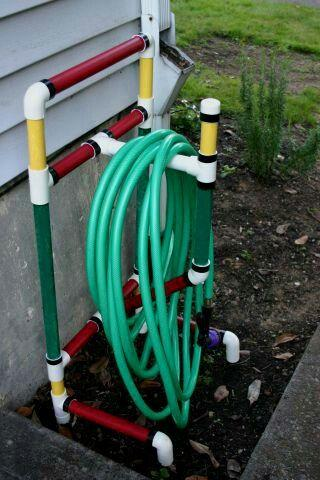PVC: (84, 128, 219, 429), (21, 80, 67, 444), (192, 97, 223, 273), (136, 33, 153, 129)
